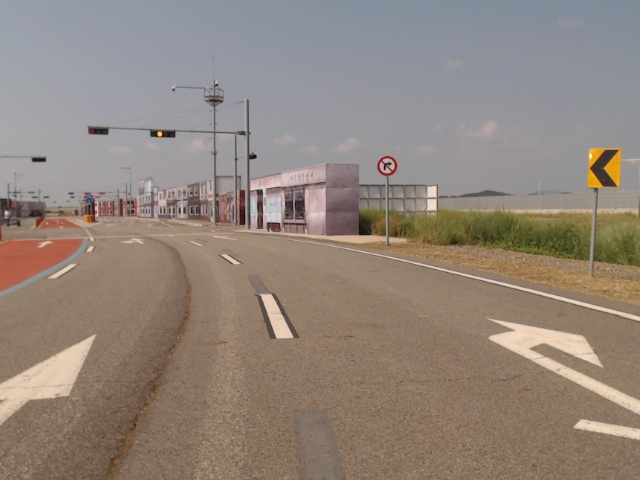orange_4: (149, 127, 176, 139)
